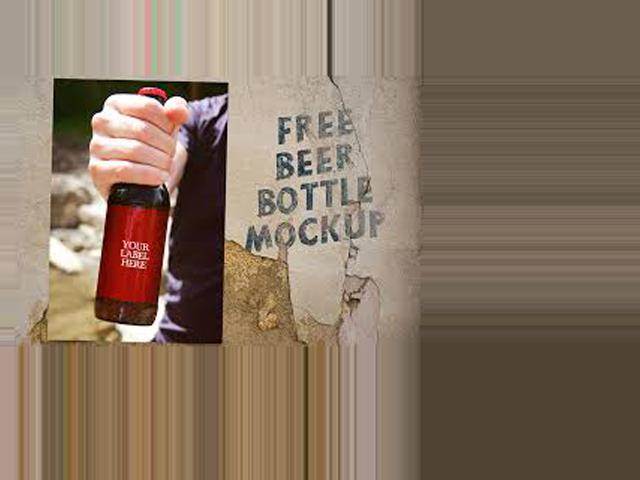beer: (94, 87, 167, 326)
